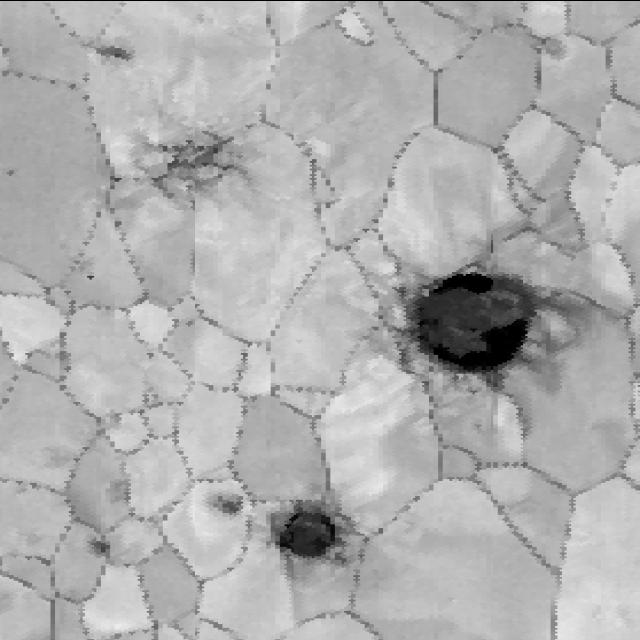good_void: (395, 259, 591, 394), (138, 117, 255, 194), (274, 493, 355, 562), (536, 30, 572, 66), (212, 485, 249, 516), (92, 38, 133, 64), (82, 531, 115, 557), (78, 257, 104, 283), (106, 478, 131, 504)
